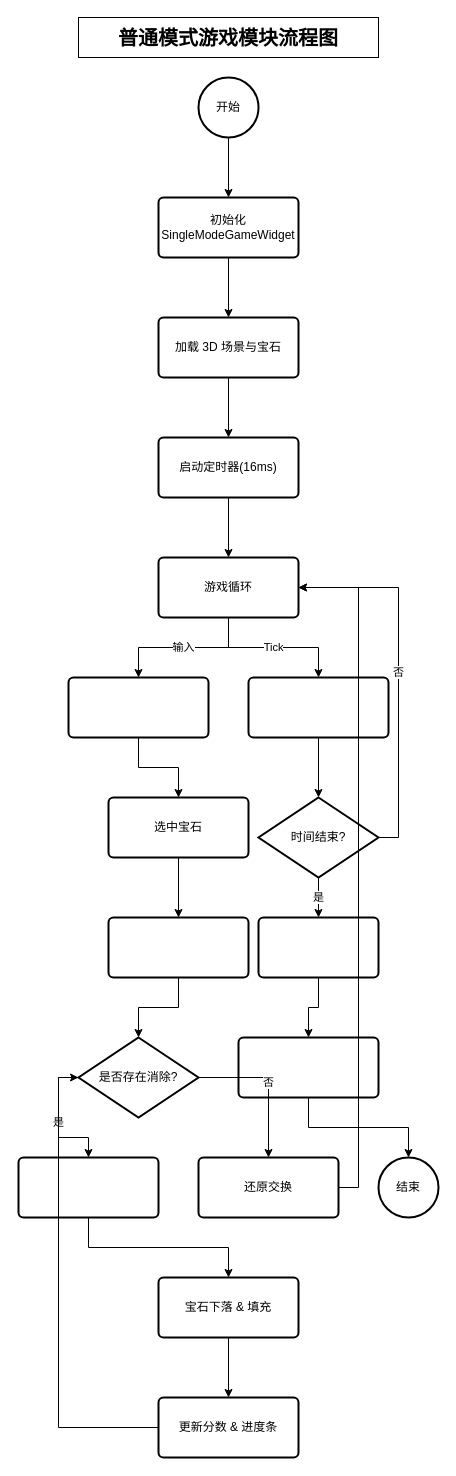
Some shapes in this 456 by 1476 pixel diagram are drawn without their labels. The box of each missing label's shape, as (x1, y1, x2, y2) in pixels:
交换宝石动画: (107, 916, 249, 978)
切换 FinalWidget: (237, 1036, 379, 1098)
更新倒计时: (247, 676, 389, 738)
消除宝石 播放特效/音效: (17, 1156, 159, 1218)
游戏结束: (257, 916, 379, 978)
鼠标点击宝石: (67, 676, 209, 738)
